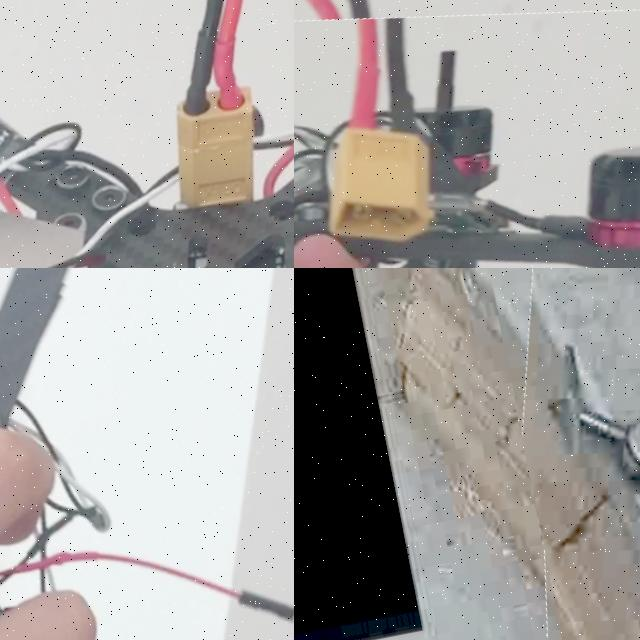0: (488, 268, 640, 640)
drone: (0, 268, 294, 640), (294, 0, 640, 268), (0, 0, 294, 268)
